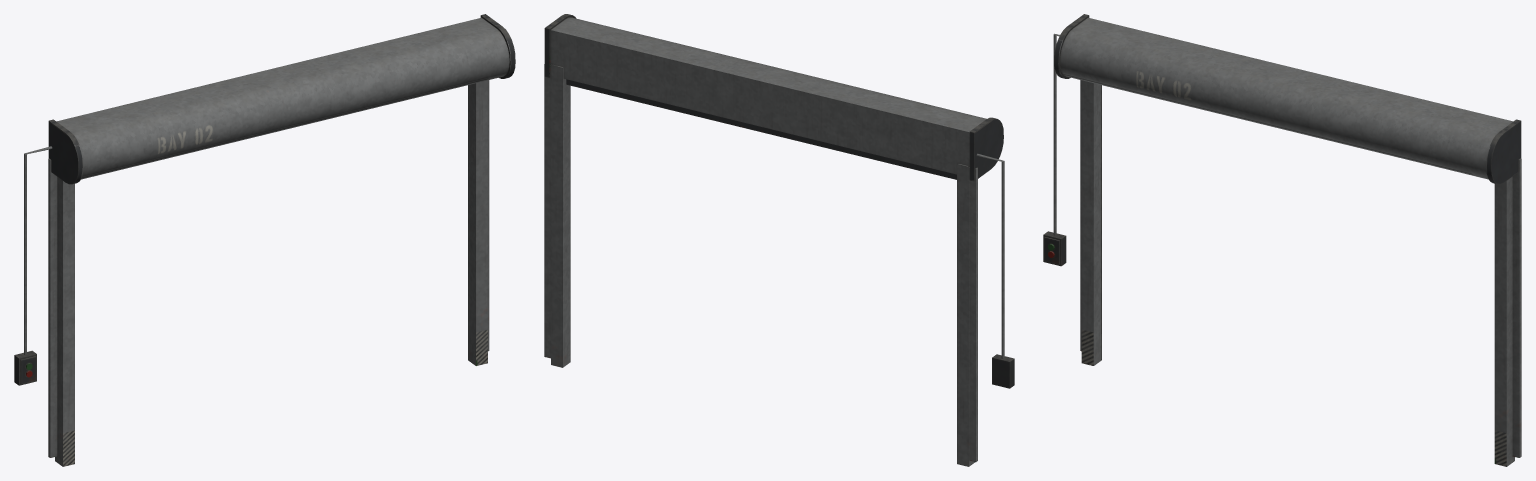
The model's file is W2_RollDoor_Open.fbx.
The picture shows the model from 3 angles, left to right: view 1: azimuth 30°, elevation 25°; view 2: azimuth 150°, elevation 25°; view 3: azimuth 330°, elevation 25°; orthographic projection.
Visible parts, largest first — view 1: W2_RollDoor_Open__W2_RollDoor_Frame, W2_RollDoor_Open__W2_RollDoor_Control; view 2: W2_RollDoor_Open__W2_RollDoor_Frame, W2_RollDoor_Open__W2_RollDoor_BottomBar, W2_RollDoor_Open__W2_RollDoor_Control; view 3: W2_RollDoor_Open__W2_RollDoor_Frame, W2_RollDoor_Open__W2_RollDoor_Control.
Part boxes in pixels (x1,y1,x2,y2): W2_RollDoor_Open__W2_RollDoor_Frame: (48, 14, 515, 466); W2_RollDoor_Open__W2_RollDoor_Control: (14, 146, 52, 385); W2_RollDoor_Open__W2_RollDoor_Frame: (544, 14, 1003, 466); W2_RollDoor_Open__W2_RollDoor_BottomBar: (566, 79, 956, 179); W2_RollDoor_Open__W2_RollDoor_Control: (976, 153, 1014, 388); W2_RollDoor_Open__W2_RollDoor_Frame: (1054, 14, 1521, 466); W2_RollDoor_Open__W2_RollDoor_Control: (1043, 33, 1066, 266).
Size of the model in its own units: 2360 by 1628 by 259.
1 material, 1 textured.
